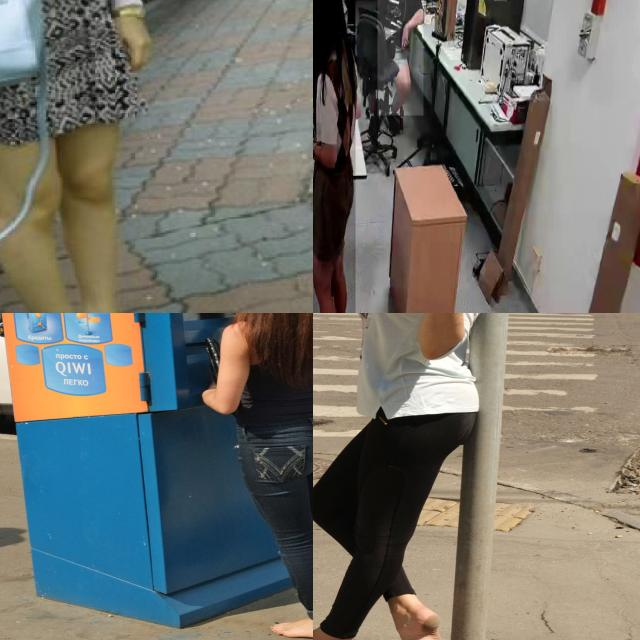Barefoots: (406, 608, 445, 640), (270, 618, 313, 640)
Sandals: (44, 271, 189, 313)
hand_glove: (313, 122, 321, 164)
hand_noglove: (400, 21, 410, 49)
person: (313, 0, 356, 313), (377, 0, 424, 116)
